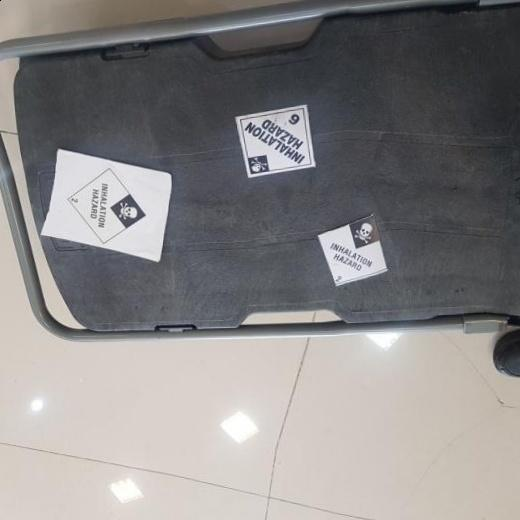poison: (63, 167, 148, 245), (237, 103, 315, 180), (314, 213, 390, 289)
